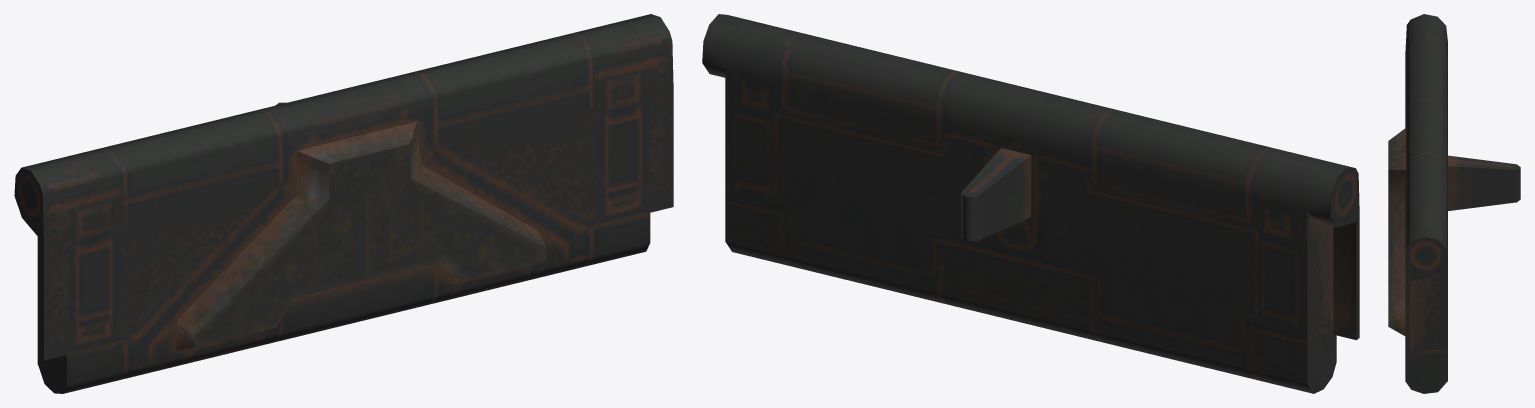
The model's file is track2_segment_1.glb.
3 renders of one model, left to right at view 1: azimuth 30°, elevation 25°; view 2: azimuth 150°, elevation 25°; view 3: azimuth 270°, elevation 25°, orthographic. The views are drawn at different scales.
Visible parts, largest first — view 1: set_0_group_0; view 2: set_0_group_0; view 3: set_0_group_0.
Boxes of the visible parts, x1=… form: set_0_group_0: x1=14, y1=14, x2=673, y2=393; set_0_group_0: x1=702, y1=14, x2=1359, y2=393; set_0_group_0: x1=1388, y1=14, x2=1520, y2=393.
Size of the model in its own units: 0.6102 by 0.2113 by 0.1532.
1 material, 1 textured.
